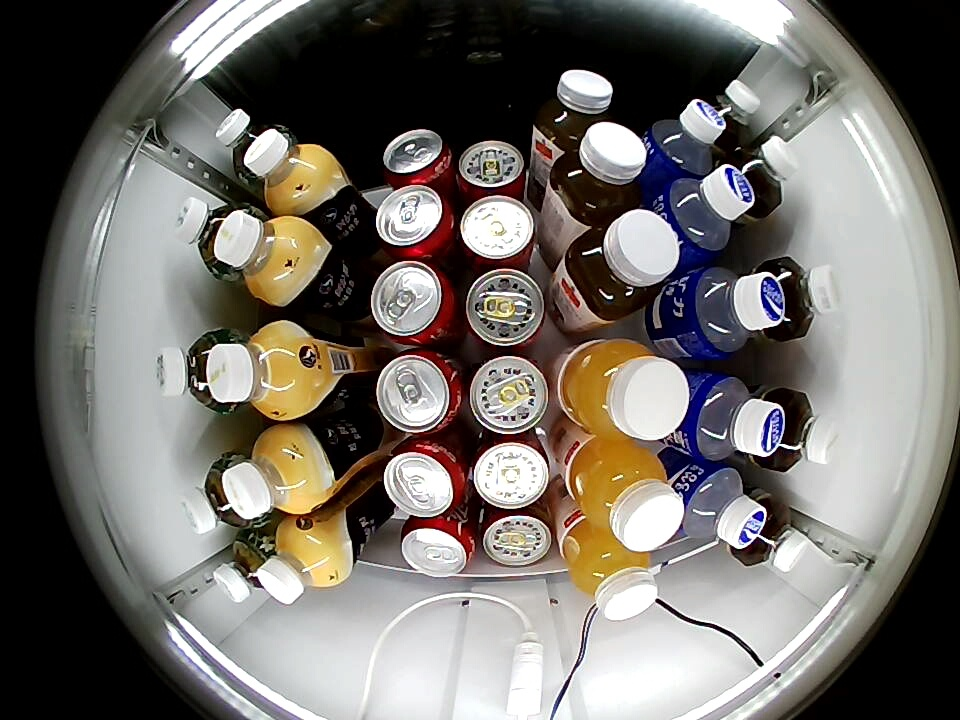asamu: (206, 322, 307, 418), (221, 428, 319, 522), (214, 209, 308, 301), (243, 127, 332, 208), (258, 523, 344, 605)
baokuangli: (678, 264, 787, 358), (653, 164, 755, 263), (679, 371, 787, 463), (676, 461, 768, 550), (643, 101, 726, 181)
chapai: (560, 209, 680, 324), (547, 122, 648, 226), (532, 69, 614, 154)
kele: (375, 349, 463, 434), (370, 260, 456, 346), (383, 438, 466, 518), (375, 185, 454, 259), (400, 517, 476, 577), (382, 129, 453, 186)
moliqingcha: (154, 328, 230, 413), (181, 455, 256, 534), (173, 196, 245, 275), (215, 107, 285, 181), (212, 530, 276, 603)
wangzainiunai: (466, 354, 550, 435), (464, 268, 547, 349), (470, 430, 551, 510), (457, 195, 539, 272), (479, 501, 555, 567), (455, 139, 530, 202)
weic: (556, 339, 689, 441), (566, 439, 684, 552), (560, 516, 659, 620)
wulongcha: (765, 390, 842, 472), (726, 135, 801, 213), (772, 256, 839, 338), (744, 499, 809, 574), (698, 79, 761, 147)
